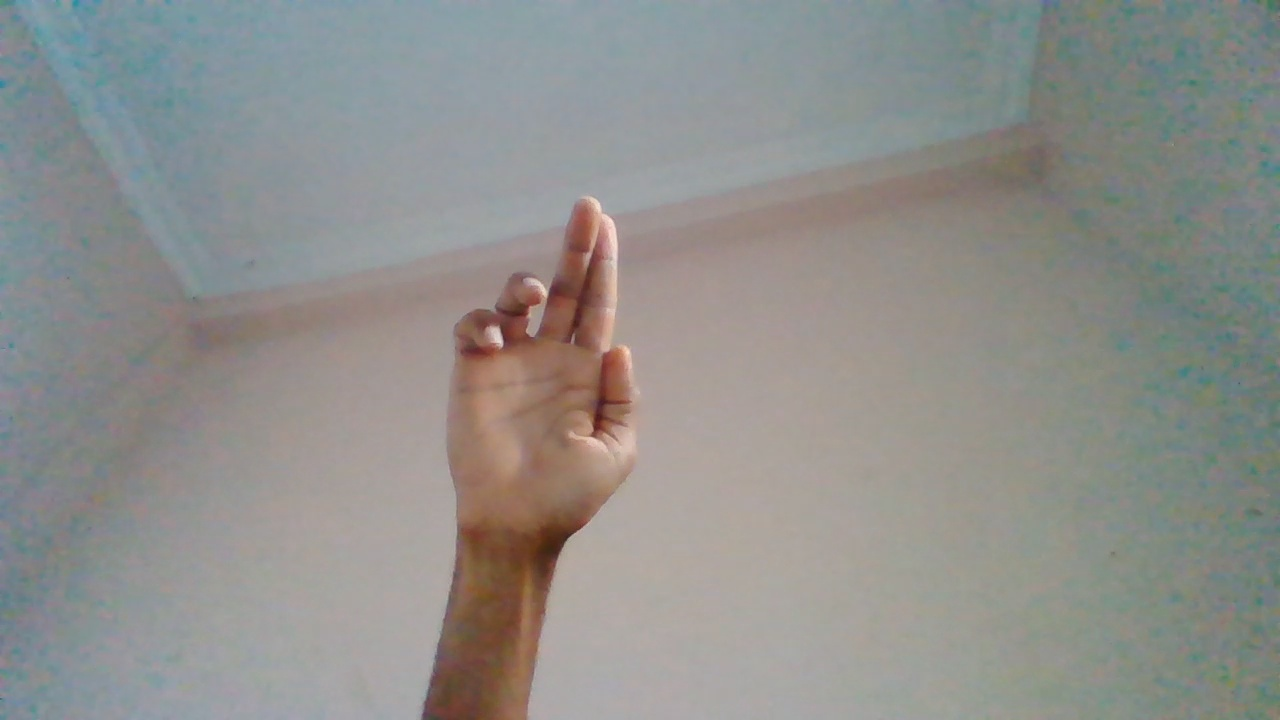gne: (448, 199, 640, 616)
